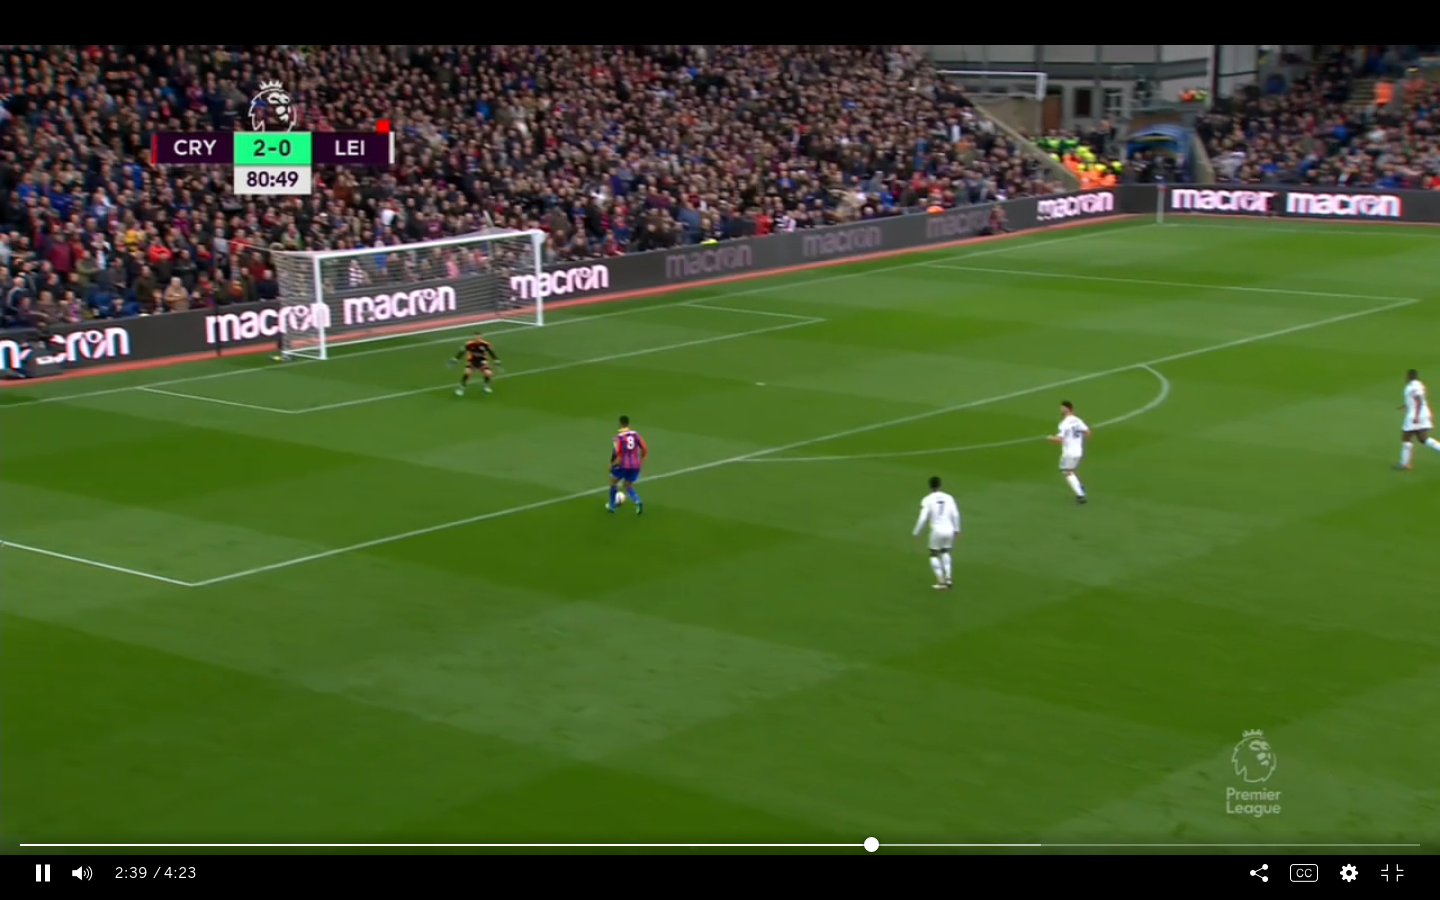soccer player: (1042, 392, 1098, 516), (912, 468, 962, 602), (1392, 366, 1440, 481), (601, 412, 647, 517), (452, 325, 496, 402)
soccerball: (610, 486, 633, 512)
